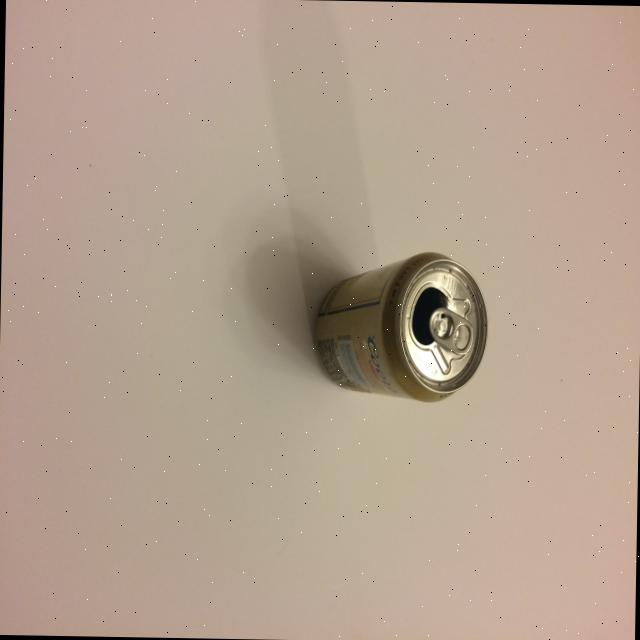metal: (313, 247, 489, 403)
